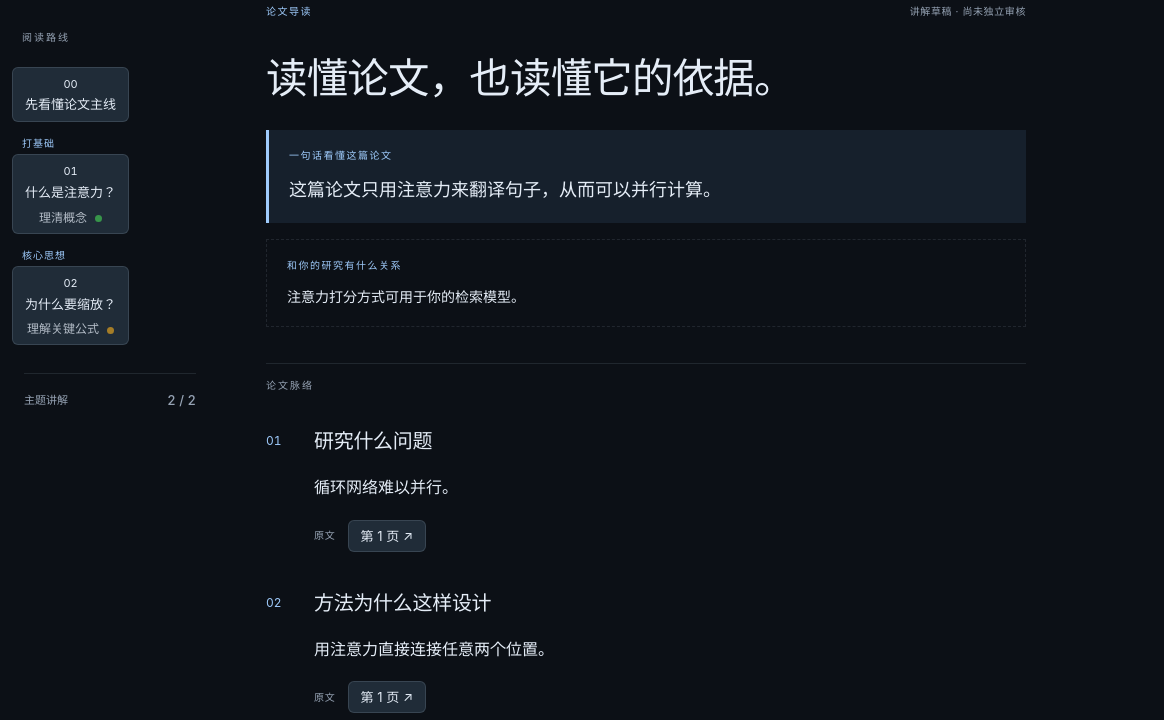
Scenario: layered teaching from simple to deep › keeps unresolved review findings visible to the reader
This screenshot has width=1164, height=720.
Click the button "02 为什么要缩放？ 理解关键公式". click: click(70, 306)
box: [12,266,129,346]
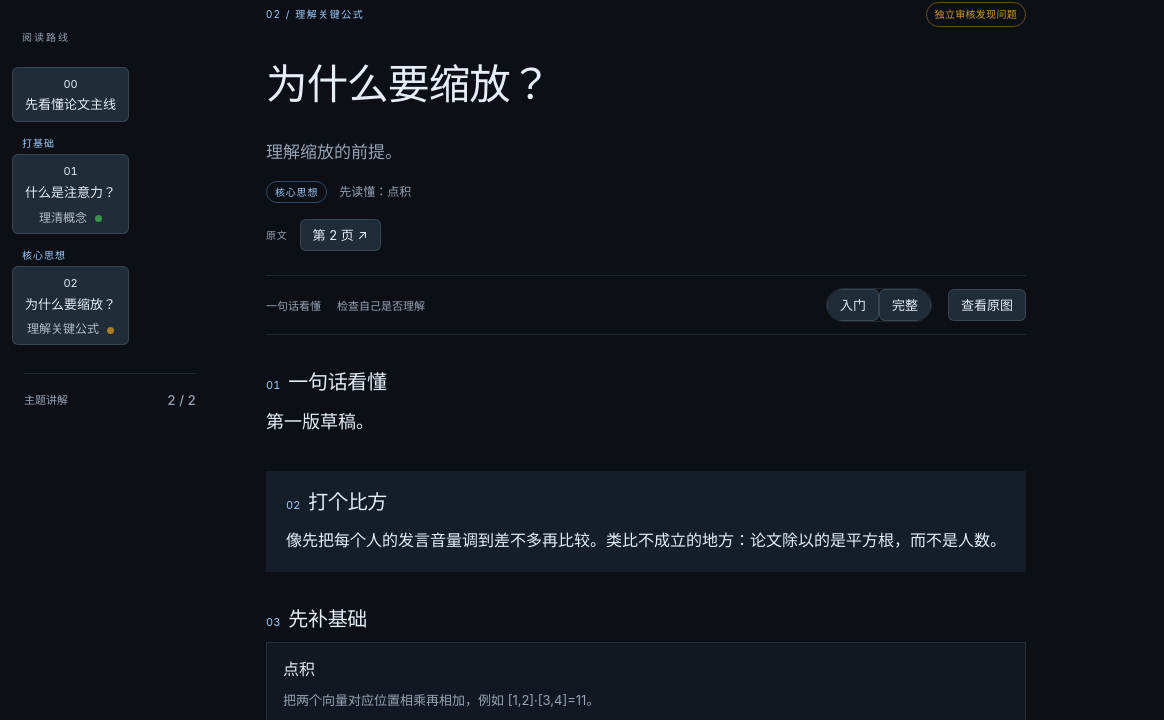
Expected: the text "第一版草稿。" is shown, [266,411,374,432]
Expected: the text "独立审核发现问题" is shown, [926,2,1026,26]
